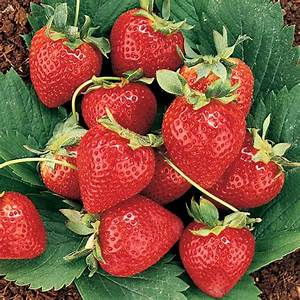Fresa: (159, 87, 253, 192), (87, 190, 189, 283), (74, 118, 160, 217), (23, 19, 107, 112), (204, 124, 287, 213), (179, 213, 261, 300), (106, 6, 190, 85), (177, 49, 257, 120), (78, 73, 161, 140), (1, 185, 51, 271)
